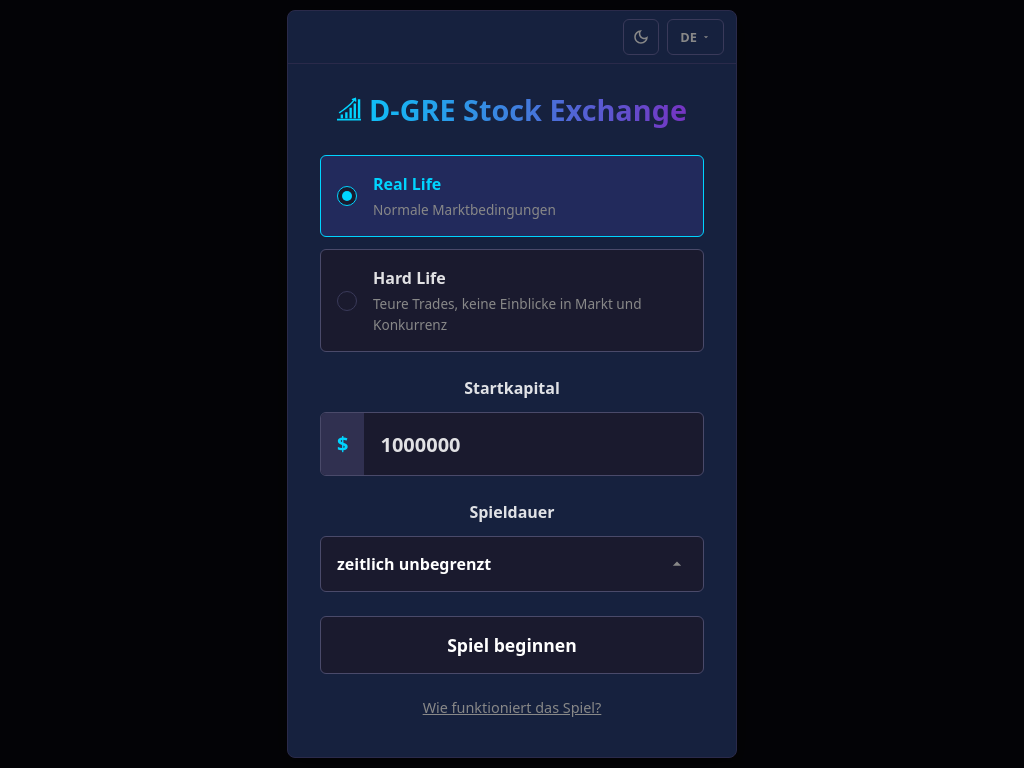
Scenario: GameStart › duration dropdown › should select a duration and close dropdown
The width and height of the screenshot is (1024, 768).
Note: Open dropdown
What coordinates should you click on to do the following:
click the button with aria-label "Spieldauer"
I would click on:
 (414, 564)
Its box is 320,536 -> 704,592.
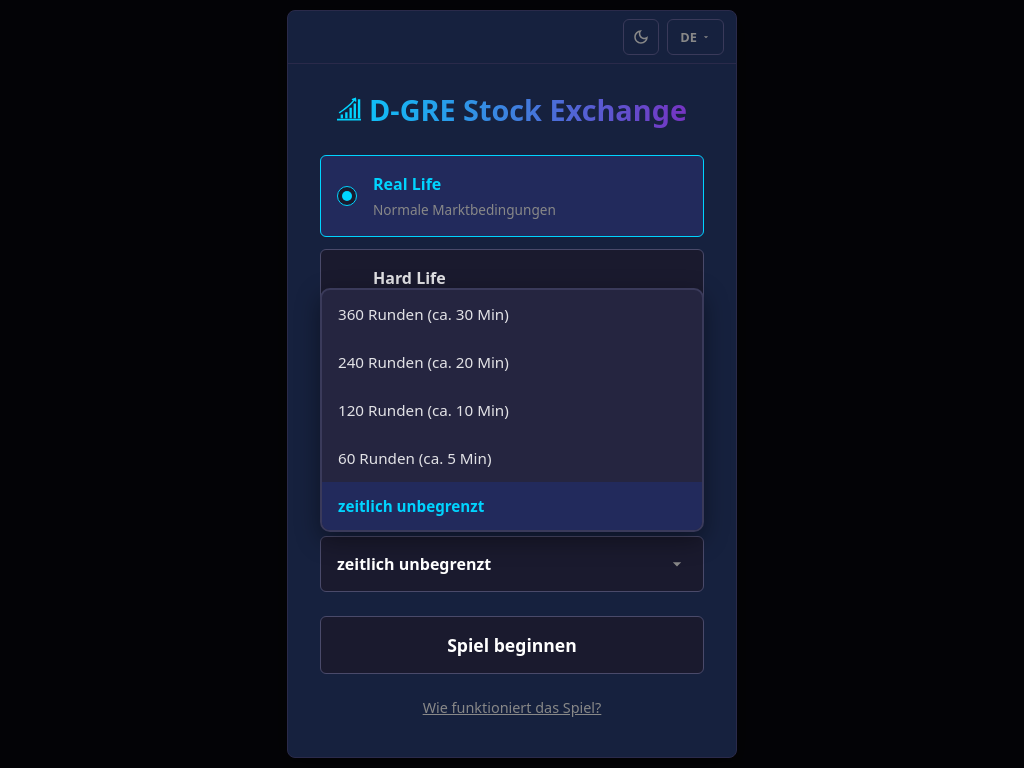
Note: Select 10 min option (120 cycles)
What coordinates should you click on to do the following:
click the button "120 Runden (ca. 10 Min)"
I would click on:
 (423, 410)
Its box is 322,386 -> 702,434.
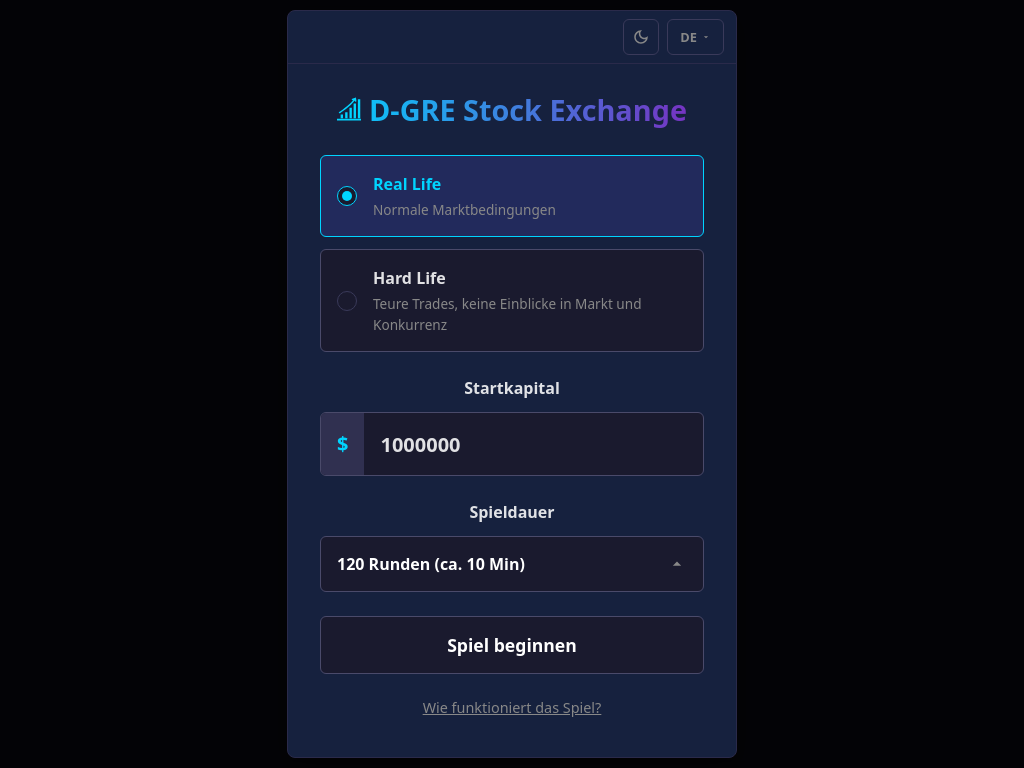
Check: the button "360 Runden (ca. 30 Min)" is gone
